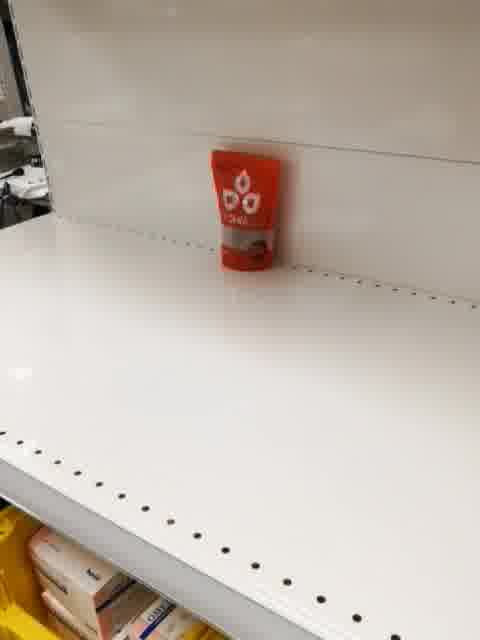whitechia: (209, 148, 284, 274)
